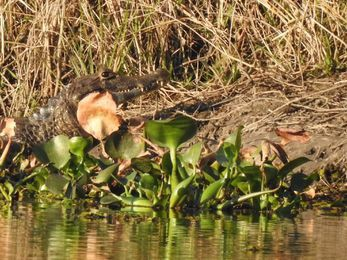water_hyacinth: (35, 114, 347, 223)
